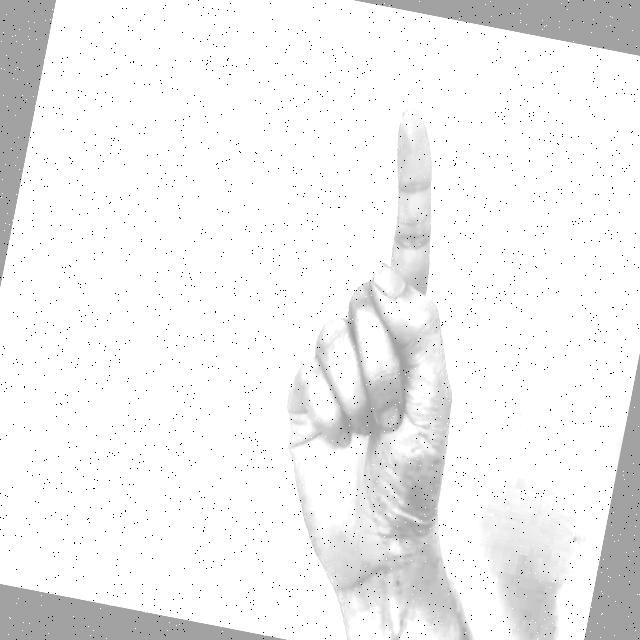U: (234, 61, 558, 610)
